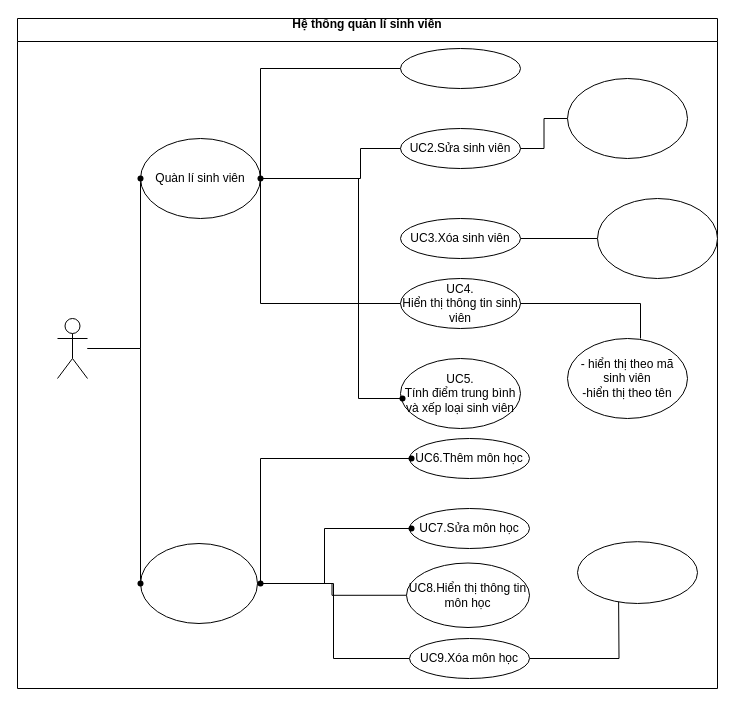
The diagram is 735 pixels wide and 706 high, and some of its shapes have lost their labels. Here are the shapes that lost their labels. From the top down, the box of each, then its label:
(400, 48, 520, 88): UC1.Thêm sinh viên
(566, 78, 688, 158): Sửa tên, địa chỉ số điện thoại, môn học, điểm số
(596, 198, 718, 278): -Xóa sinh viên -Xóa điểm số của sinh viên đó
(56, 318, 88, 378): Actor
(140, 542, 258, 624): Quản lí môn học
(576, 541, 698, 604): Xóa môn học -Xóa điểm số của môn học dó
